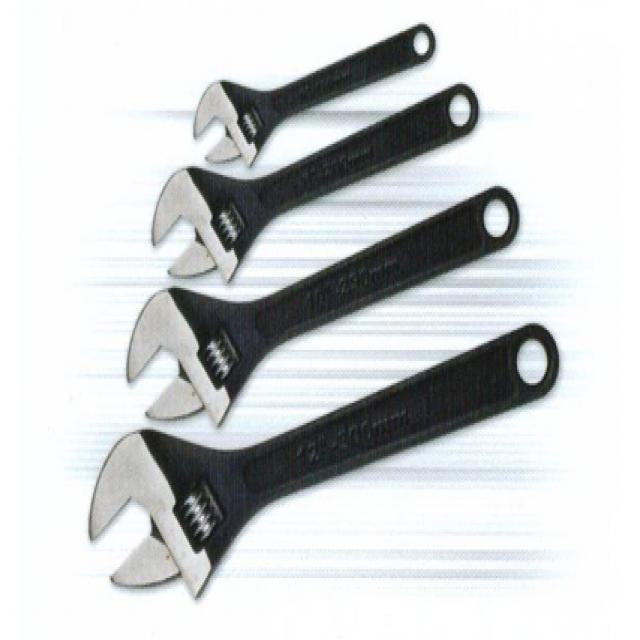wrench: (85, 321, 562, 608), (123, 178, 526, 429), (148, 77, 480, 286), (191, 18, 435, 174)
